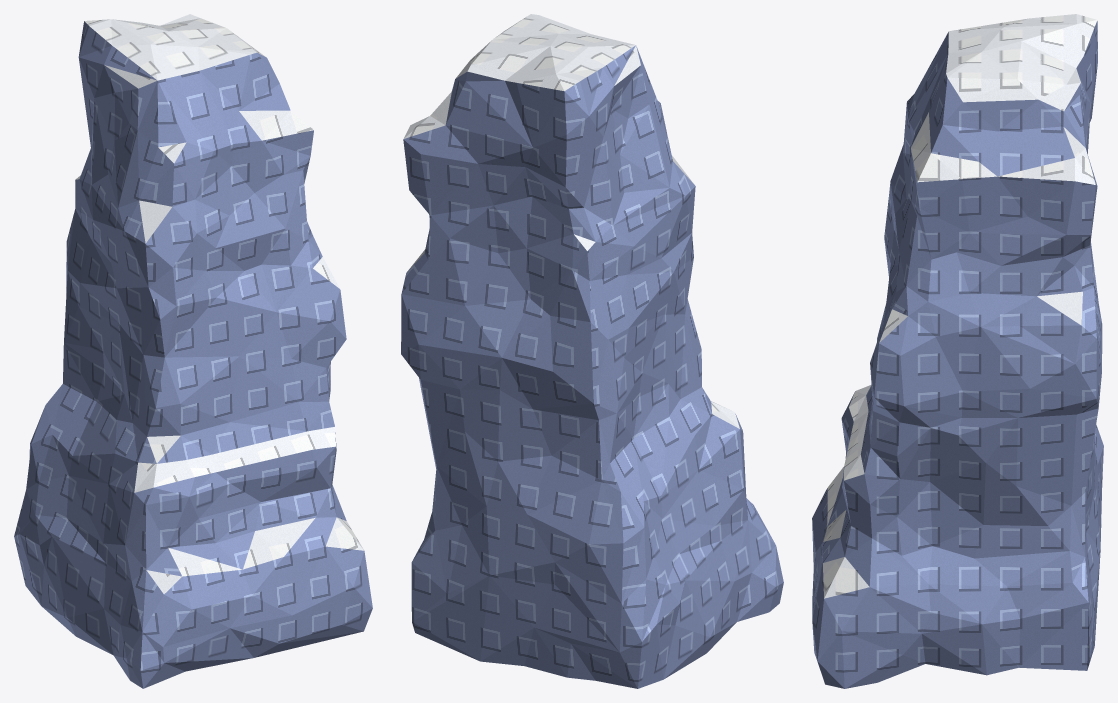
File: IceButtress.glb
3 views of the same model, side by side, from view 1: azimuth 30°, elevation 25°; view 2: azimuth 150°, elevation 25°; view 3: azimuth 270°, elevation 25° (orthographic). The views are drawn at different scales.
Visible parts, largest first — view 1: IceButtress_Rock, IceButtress_Top; view 2: IceButtress_Rock, IceButtress_Top; view 3: IceButtress_Rock, IceButtress_Top.
Part boxes in pixels (<box>): IceButtress_Rock: <box>14,21,372,688</box>; IceButtress_Top: <box>76,14,363,593</box>; IceButtress_Rock: <box>401,45,783,688</box>; IceButtress_Top: <box>403,14,739,428</box>; IceButtress_Rock: <box>812,21,1103,688</box>; IceButtress_Top: <box>823,14,1097,598</box>.
Bounding box in the file's own units: 7.18 × 16.03 × 7.1.
2 materials, 2 textured.
